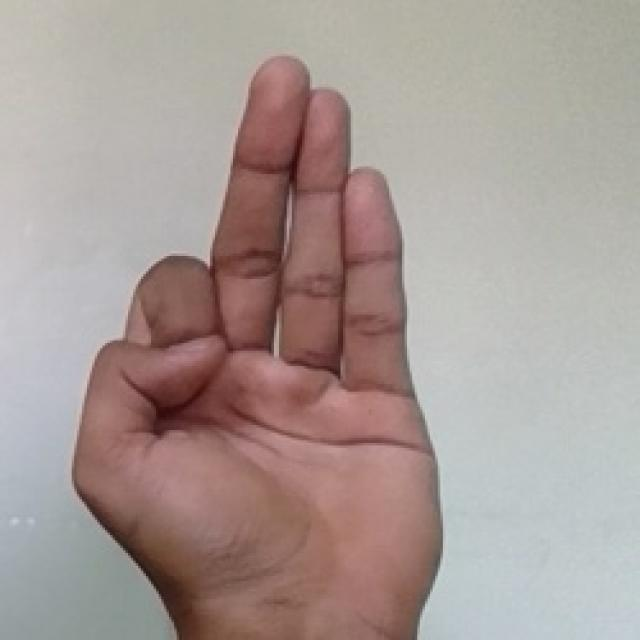Numeric-9: (68, 54, 447, 616)
